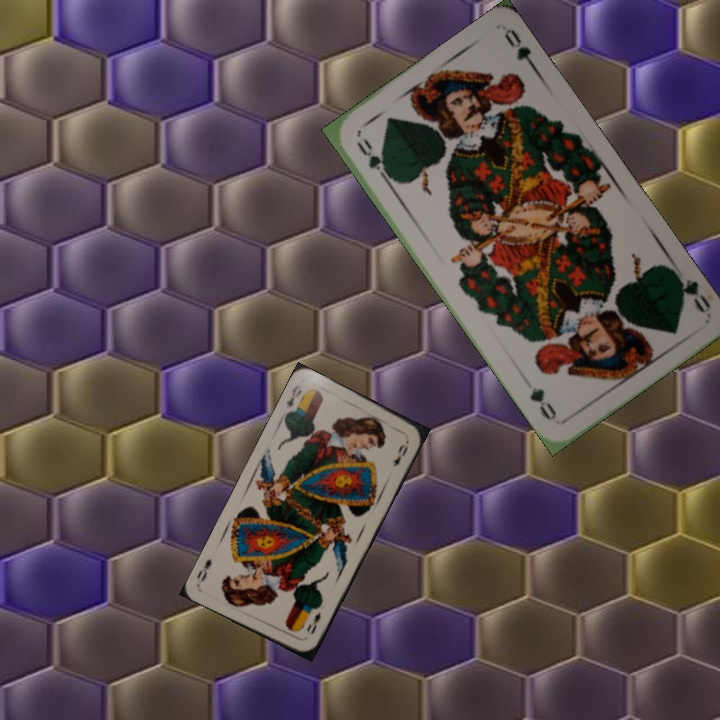EO: (282, 381, 305, 411), (302, 608, 324, 638)
GO: (352, 134, 395, 186), (669, 266, 713, 316)
